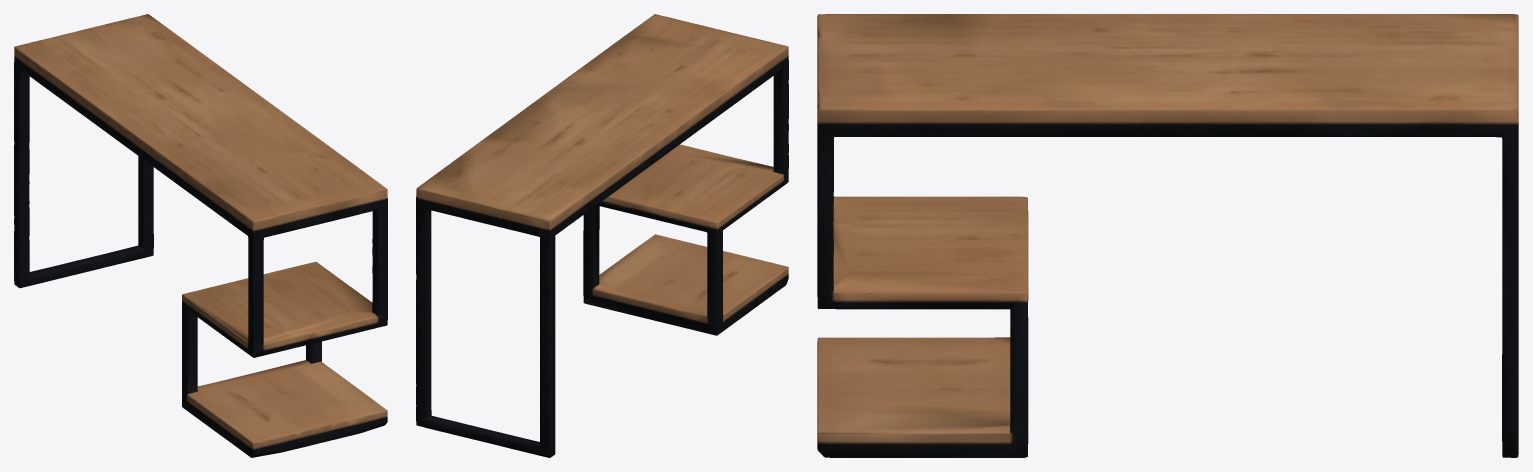
The model's file is minimalist_desk.glb.
3 renders of one model, left to right at view 1: azimuth 30°, elevation 25°; view 2: azimuth 150°, elevation 25°; view 3: azimuth 270°, elevation 25°, orthographic. The views are drawn at different scales.
Parts seen in each view (by area): view 1: world; view 2: world; view 3: world.
Boxes of the visible parts, <box> form: world: <box>14,14,387,457</box>; world: <box>416,14,788,457</box>; world: <box>817,14,1518,457</box>.
Bounding box in the file's own units: 0.3268 × 0.5515 × 1.
Materials: 1 (1 with a texture image).
